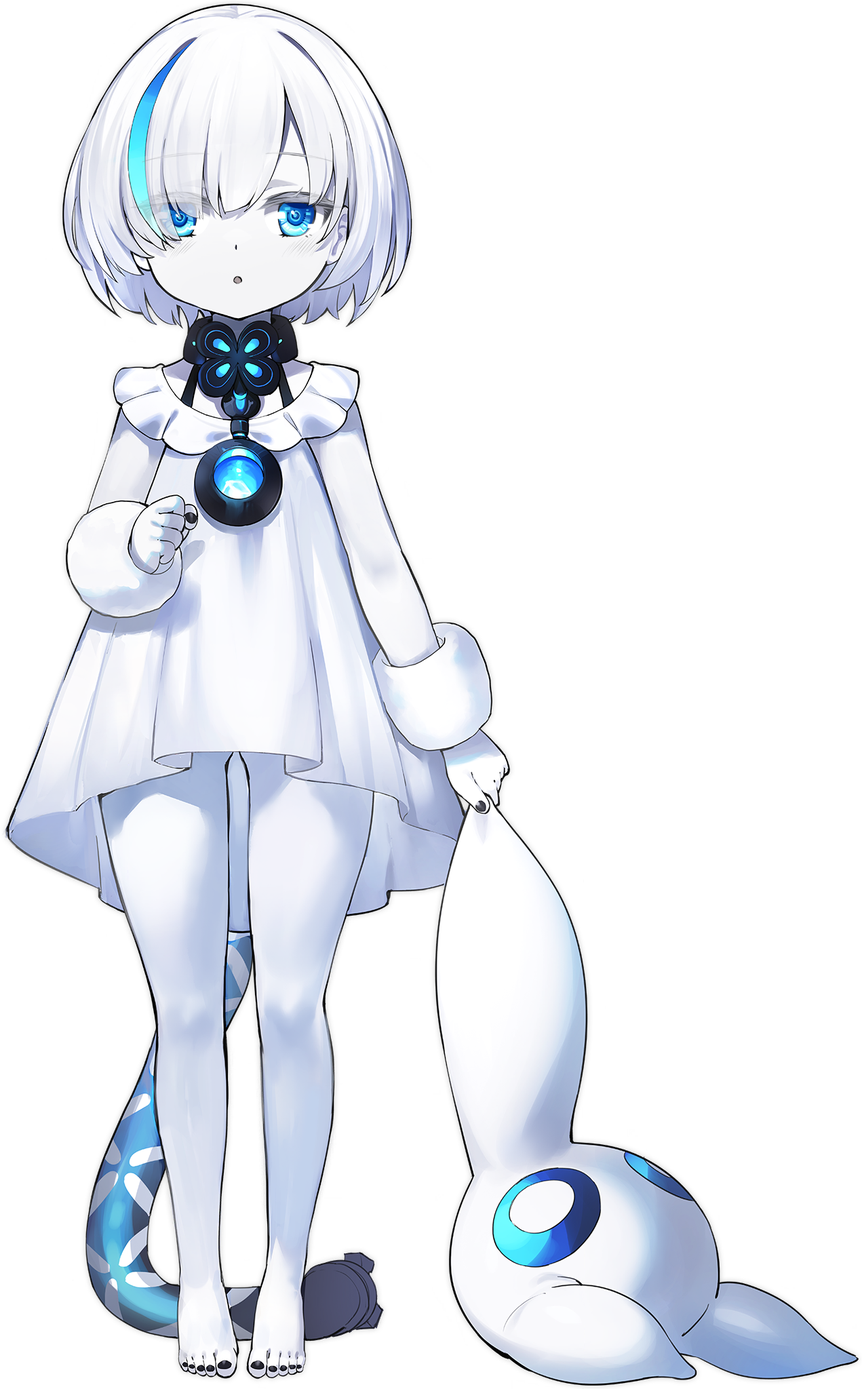person: (1, 2, 855, 1388)
